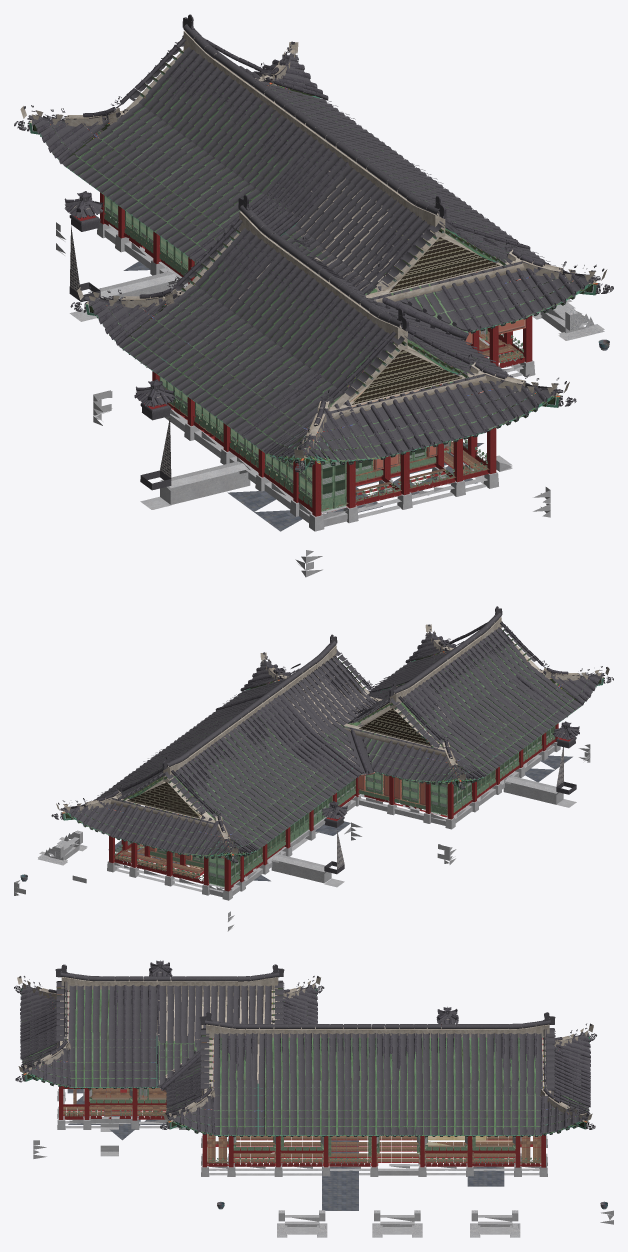
The model's file is bongsu.glb.
3 views of the same model, one above another, from view 1: azimuth 30°, elevation 25°; view 2: azimuth 150°, elevation 25°; view 3: azimuth 270°, elevation 25° (orthographic). The views are drawn at different scales.
Parts seen in each view (by area): view 1: SM_Bongsudang, SM_Bongsudang_MI_R_Roof1_0.012, SM_Bongsudang_MI_R_Roof1_0.005, SM_Bongsudang_MI_R_Roof1_0.013, SM_Bongsudang_MI_R_Roof1_0.014, SM_Bongsudang_MI_R_Roof1_0.004, SM_Bongsudang_MI_R_Roof1_0.017, SM_Bongsudang_MI_R_Roof1_0.006, SM_Bongsudang_MI_R_Roof1_0.016, SM_Bongsudang_MI_R_Roof1_0.008, SM_Bongsudang_MI_R_Roof1_0.011, SM_Bongsudang_MI_R_Roof1_0.002 (+15 smaller); view 2: SM_Bongsudang, SM_Bongsudang_MI_R_Roof1_0.012, SM_Bongsudang_MI_R_Roof1_0.005, SM_Bongsudang_MI_R_Roof1_0.014, SM_Bongsudang_MI_R_Roof1_0.013, SM_Bongsudang_MI_R_Roof1_0.008, SM_Bongsudang_MI_R_Roof1_0.004, SM_Bongsudang_MI_R_Roof1_0.006, SM_Bongsudang_MI_R_Roof1_0.001, SM_Bongsudang_MI_R_Roof1_0.007, SM_Bongsudang_MI_R_Roof1_0.011, SM_Bongsudang_MI_R_Roof1_0.003 (+15 smaller); view 3: SM_Bongsudang, SM_Bongsudang_MI_R_Roof1_0.010, SM_Bongsudang_MI_R_Roof1_0.009, SM_Bongsudang_MI_R_Roof1_0.011, SM_Bongsudang_MI_R_Roof1_0.015, SM_Bongsudang_MI_R_Roof1_0.002, SM_Bongsudang_MI_R_Roof1_0.006, SM_Bongsudang_MI_R_Roof1_0.014, SM_Bongsudang_MI_R_Roof1_0.004, SM_Bongsudang_MI_R_Roof1_0.017, SM_Bongsudang_MI_R_Roof1_0.013, SM_Bongsudang_MI_R_Roof1_0.003 (+12 smaller).
Part boxes in pixels (<box>): SM_Bongsudang: <box>20,31,609,577</box>; SM_Bongsudang_MI_R_Roof1_0.012: <box>69,109,371,490</box>; SM_Bongsudang_MI_R_Roof1_0.005: <box>91,68,379,412</box>; SM_Bongsudang_MI_R_Roof1_0.013: <box>62,47,469,248</box>; SM_Bongsudang_MI_R_Roof1_0.014: <box>120,89,550,453</box>; SM_Bongsudang_MI_R_Roof1_0.004: <box>280,165,472,332</box>; SM_Bongsudang_MI_R_Roof1_0.017: <box>405,253,600,445</box>; SM_Bongsudang_MI_R_Roof1_0.006: <box>118,55,516,367</box>; SM_Bongsudang_MI_R_Roof1_0.016: <box>264,268,563,472</box>; SM_Bongsudang_MI_R_Roof1_0.008: <box>27,112,474,438</box>; SM_Bongsudang_MI_R_Roof1_0.011: <box>120,93,499,367</box>; SM_Bongsudang_MI_R_Roof1_0.002: <box>23,53,566,384</box>; SM_Bongsudang: <box>14,617,609,931</box>; SM_Bongsudang_MI_R_Roof1_0.012: <box>112,640,576,874</box>; SM_Bongsudang_MI_R_Roof1_0.005: <box>101,654,544,836</box>; SM_Bongsudang_MI_R_Roof1_0.014: <box>166,627,582,821</box>; SM_Bongsudang_MI_R_Roof1_0.013: <box>160,716,333,850</box>; SM_Bongsudang_MI_R_Roof1_0.008: <box>187,621,567,856</box>; SM_Bongsudang_MI_R_Roof1_0.004: <box>280,669,414,774</box>; SM_Bongsudang_MI_R_Roof1_0.006: <box>51,663,503,828</box>; SM_Bongsudang_MI_R_Roof1_0.001: <box>116,622,549,818</box>; SM_Bongsudang_MI_R_Roof1_0.007: <box>60,698,439,863</box>; SM_Bongsudang_MI_R_Roof1_0.011: <box>102,662,434,821</box>; SM_Bongsudang_MI_R_Roof1_0.003: <box>317,655,607,774</box>; SM_Bongsudang: <box>17,960,613,1237</box>; SM_Bongsudang_MI_R_Roof1_0.010: <box>55,964,555,1135</box>; SM_Bongsudang_MI_R_Roof1_0.009: <box>266,1033,462,1135</box>; SM_Bongsudang_MI_R_Roof1_0.011: <box>108,985,502,1135</box>; SM_Bongsudang_MI_R_Roof1_0.015: <box>22,964,422,1135</box>; SM_Bongsudang_MI_R_Roof1_0.002: <box>21,976,591,1134</box>; SM_Bongsudang_MI_R_Roof1_0.006: <box>209,981,595,1135</box>; SM_Bongsudang_MI_R_Roof1_0.014: <box>213,1033,383,1135</box>; SM_Bongsudang_MI_R_Roof1_0.004: <box>157,984,233,1089</box>; SM_Bongsudang_MI_R_Roof1_0.017: <box>15,1025,215,1134</box>; SM_Bongsudang_MI_R_Roof1_0.013: <box>344,1033,383,1135</box>; SM_Bongsudang_MI_R_Roof1_0.003: <box>19,976,318,1087</box>.
Size of the model in its own units: 30.39 by 11.87 by 42.06.
25 materials, 24 textured.
